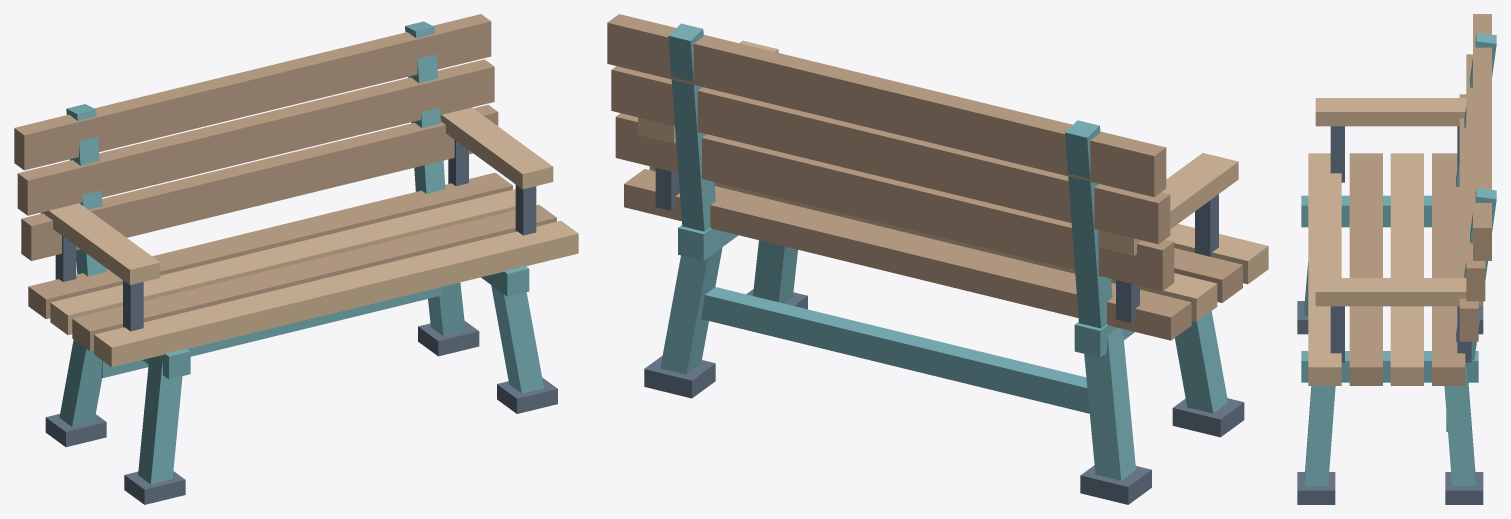
File: bench.glb
3 views of the same model, side by side, from view 1: azimuth 30°, elevation 25°; view 2: azimuth 150°, elevation 25°; view 3: azimuth 270°, elevation 25° (orthographic). The views are drawn at different scales.
Visible parts, largest first — view 1: bench_back_slat.001, bench_back_slat.002, bench_seat_slat_0, bench_back_slat, bench_seat_slat_2, bench_seat_slat_1, bench_seat_slat_3, bench_armrest, bench_armrest.001, bench_splayed_leg, bench_splayed_leg.002, bench_lower_tie (+14 smaller); view 2: bench_back_slat.002, bench_back_slat.001, bench_back_slat, bench_seat_slat_3, bench_lower_tie, bench_back_upright, bench_splayed_leg.001, bench_back_upright.001, bench_splayed_leg.003, bench_armrest, bench_splayed_leg, bench_seat_slat_2 (+12 smaller); view 3: bench_seat_slat_1, bench_seat_slat_2, bench_seat_slat_0, bench_seat_slat_3, bench_armrest.001, bench_armrest, bench_back_slat.002, bench_splayed_leg.003, bench_splayed_leg.002, bench_back_slat.001, bench_back_slat, bench_seat_support.001 (+9 smaller).
Part boxes in pixels (x1,y1,x2,y2): bench_back_slat.001: [17, 59, 494, 215]; bench_back_slat.002: [14, 14, 491, 170]; bench_seat_slat_0: [94, 220, 578, 367]; bench_back_slat: [21, 105, 498, 260]; bench_seat_slat_2: [50, 189, 515, 335]; bench_seat_slat_1: [72, 204, 556, 351]; bench_seat_slat_3: [28, 172, 512, 319]; bench_armrest: [40, 203, 160, 284]; bench_armrest.001: [440, 107, 553, 189]; bench_splayed_leg: [138, 356, 182, 484]; bench_splayed_leg.002: [491, 285, 543, 393]; bench_lower_tie: [101, 287, 441, 377]; bench_back_slat.002: [607, 14, 1166, 197]; bench_back_slat.001: [611, 66, 1170, 244]; bench_back_slat: [615, 113, 1174, 291]; bench_seat_slat_3: [624, 169, 1191, 340]; bench_lower_tie: [701, 287, 1089, 413]; bench_back_upright: [1065, 120, 1112, 328]; bench_splayed_leg.001: [1084, 328, 1135, 480]; bench_back_upright.001: [668, 23, 715, 231]; bench_splayed_leg.003: [660, 247, 722, 374]; bench_armrest: [1098, 153, 1238, 255]; bench_splayed_leg: [1175, 311, 1227, 413]; bench_seat_slat_2: [649, 166, 1217, 321]; bench_seat_slat_1: [1349, 153, 1382, 385]; bench_seat_slat_2: [1390, 153, 1423, 385]; bench_seat_slat_0: [1308, 153, 1341, 385]; bench_seat_slat_3: [1432, 153, 1465, 385]; bench_armrest.001: [1315, 278, 1483, 306]; bench_armrest: [1315, 98, 1466, 126]; bench_back_slat.002: [1473, 14, 1491, 260]; bench_splayed_leg.003: [1444, 368, 1475, 485]; bench_splayed_leg.002: [1304, 386, 1335, 485]; bench_back_slat.001: [1466, 54, 1485, 301]; bench_back_slat: [1459, 94, 1478, 341]; bench_seat_support.001: [1301, 351, 1478, 382].
Bounding box in the file's own units: 1.6 × 1.03 × 0.6302.
